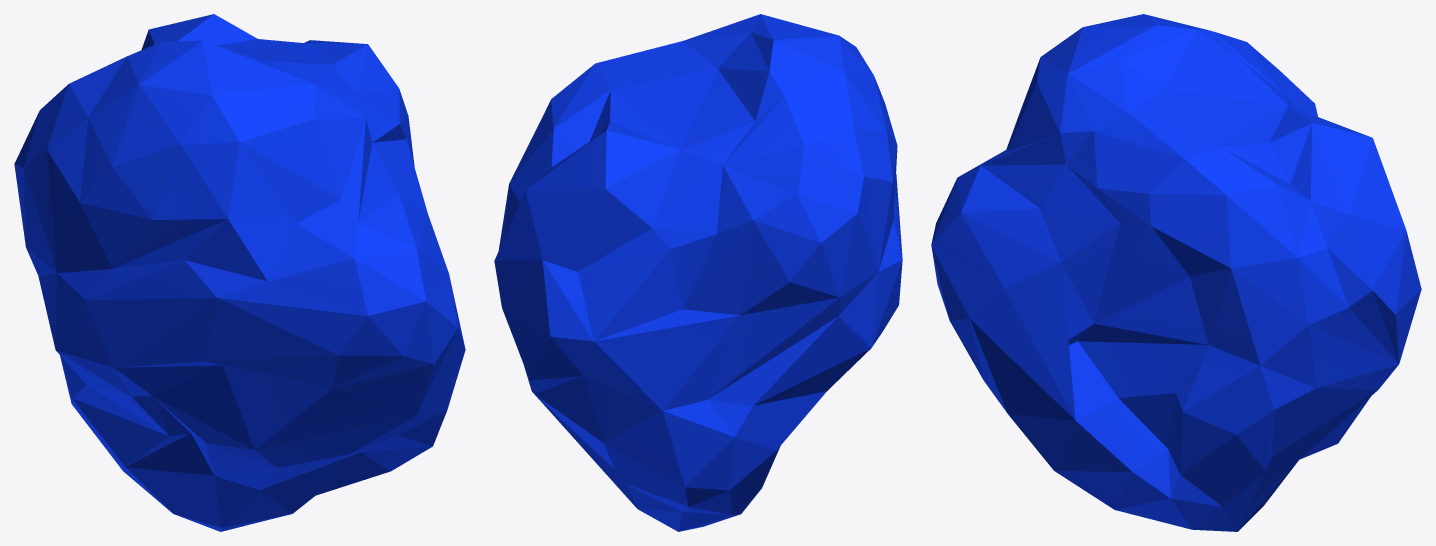
Rendered from SM_emissive_rock_21.fbx.
3 views of the same model, side by side, from view 1: azimuth 30°, elevation 25°; view 2: azimuth 150°, elevation 25°; view 3: azimuth 270°, elevation 25° (orthographic). The views are drawn at different scales.
Parts seen in each view (by area): view 1: emissive_rock_21; view 2: emissive_rock_21; view 3: emissive_rock_21.
Part boxes in pixels (box(x1,y1,x2,y2)): emissive_rock_21: box(14, 14, 465, 531); emissive_rock_21: box(494, 14, 902, 531); emissive_rock_21: box(931, 14, 1421, 531).
Bounding box in the file's own units: 229 × 314 × 294.
